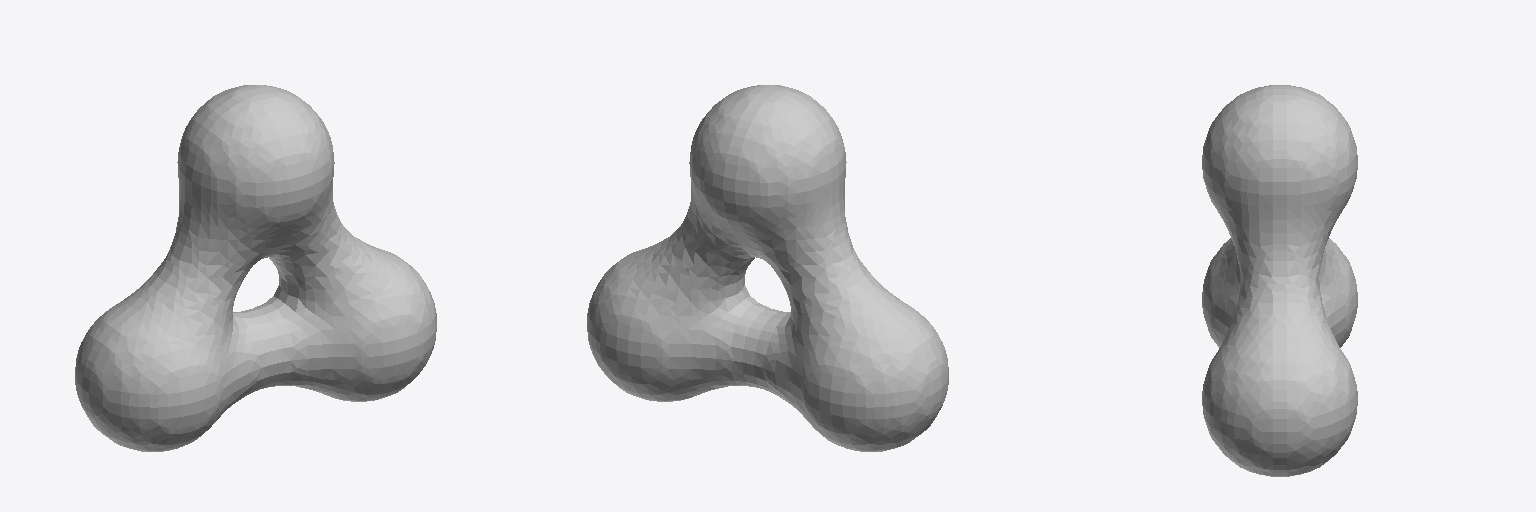
Rendered from triple.obj.
3 views of the same model, side by side, from view 1: azimuth 30°, elevation 25°; view 2: azimuth 150°, elevation 25°; view 3: azimuth 270°, elevation 25° (orthographic).
Parts seen in each view (by area): view 1: Triplet.001; view 2: Triplet.001; view 3: Triplet.001.
Part boxes in pixels (x1,y1,x2,y2): Triplet.001: (75, 85, 436, 451); Triplet.001: (587, 85, 948, 451); Triplet.001: (1202, 85, 1357, 476).
Size of the model in its own units: 5.74 by 5.27 by 2.28.